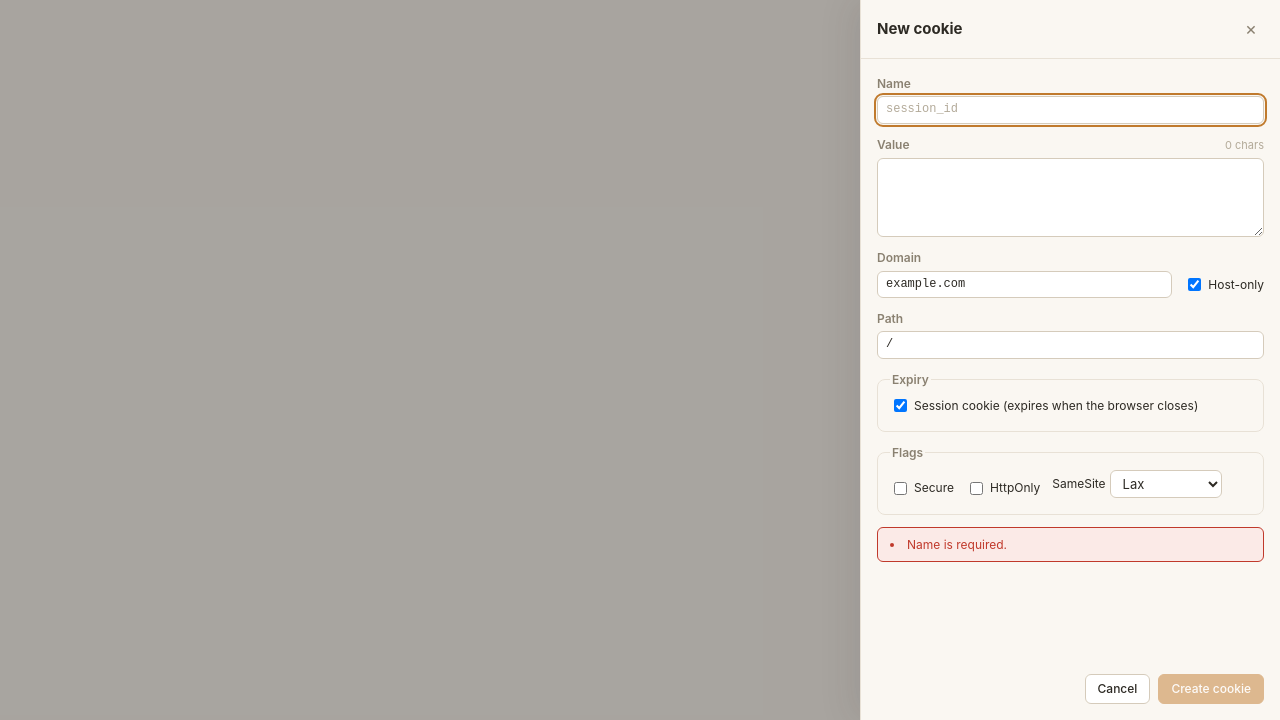
Scenario: CookieEditor › surfaces __Host- prefix violations
Type "__Host-sid" into the field labelled "Name" at (1070, 110), box [877, 96, 1264, 124]
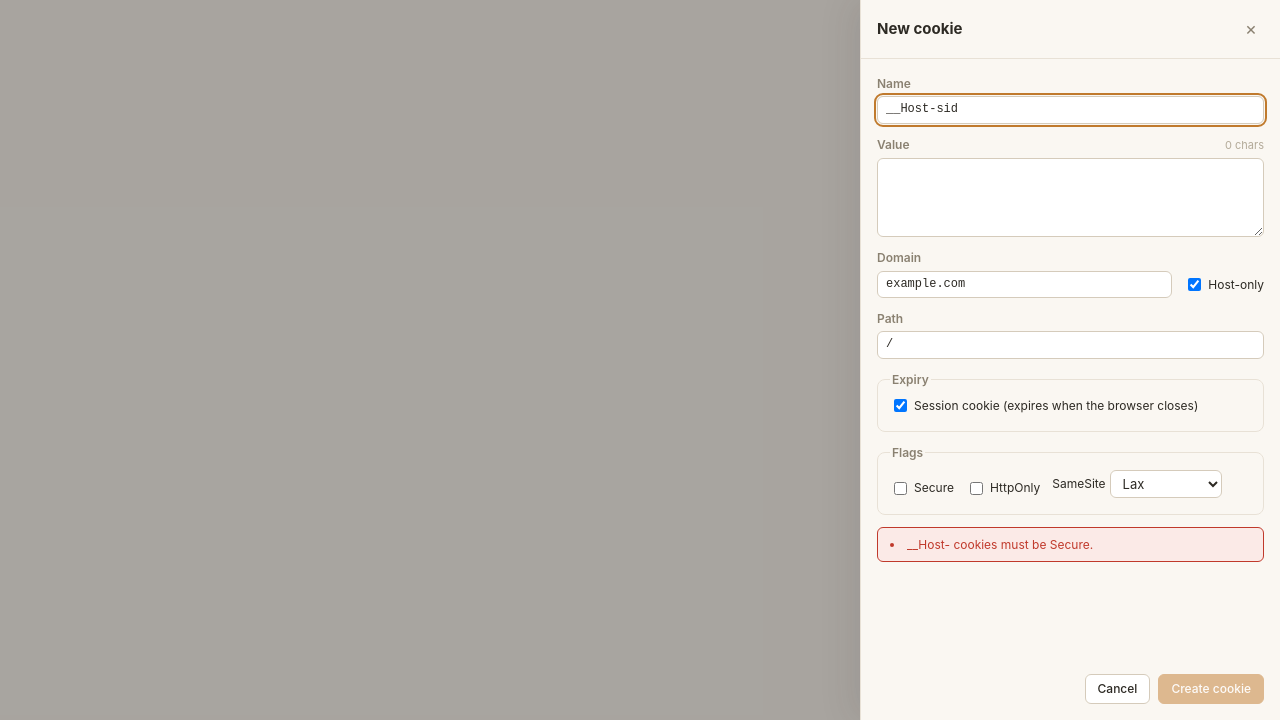
Expected: the list item "__Host- cookies must be Secure." is shown, [907, 537, 1093, 552]
